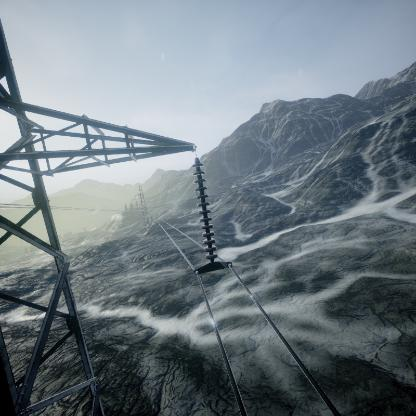insulator: (189, 155, 220, 262)
